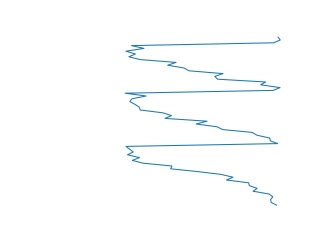distributaryMouthBar: (122, 35, 282, 208)
